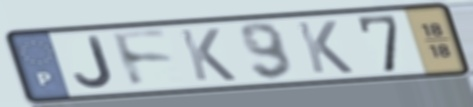7: (355, 14, 401, 74)
9: (238, 20, 296, 83)
F: (107, 28, 178, 91)
J: (72, 34, 118, 91)
K: (176, 26, 240, 83), (293, 19, 357, 75)
